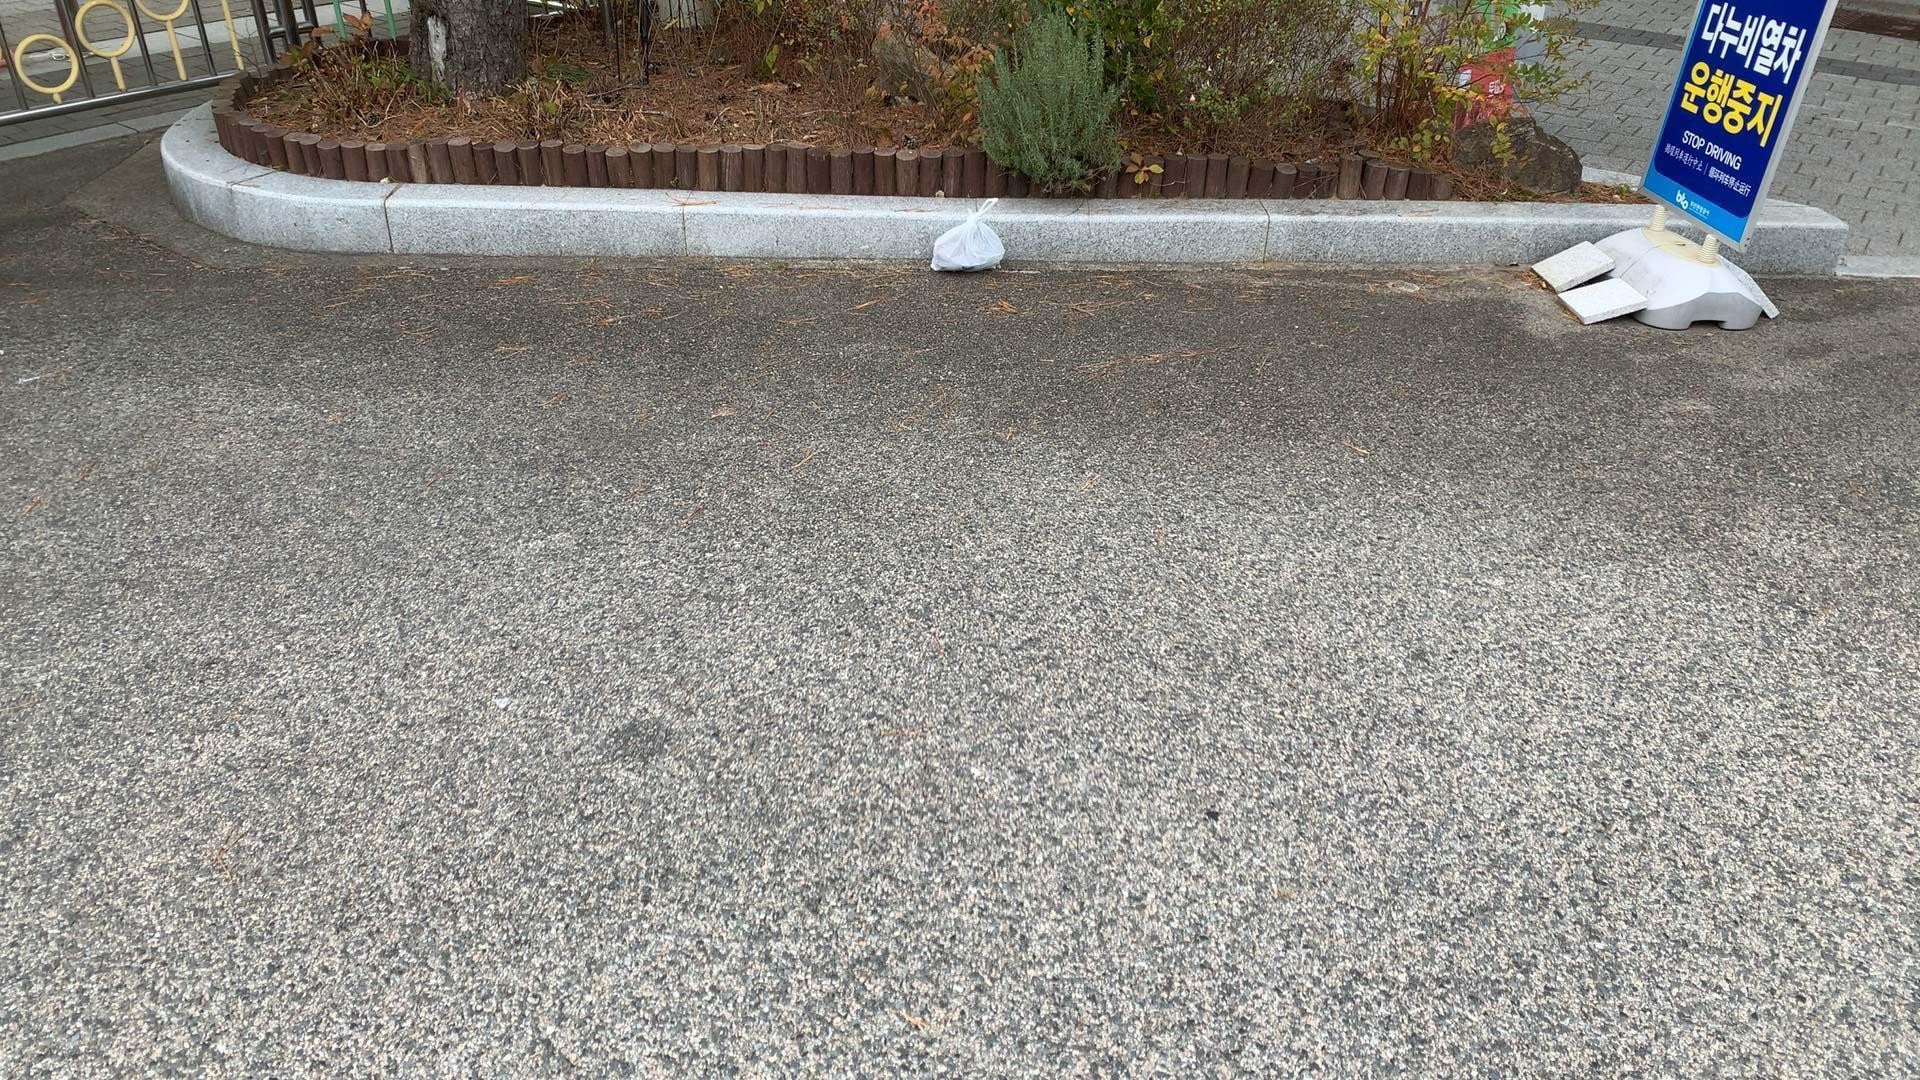white_bag: (920, 194, 1011, 277)
